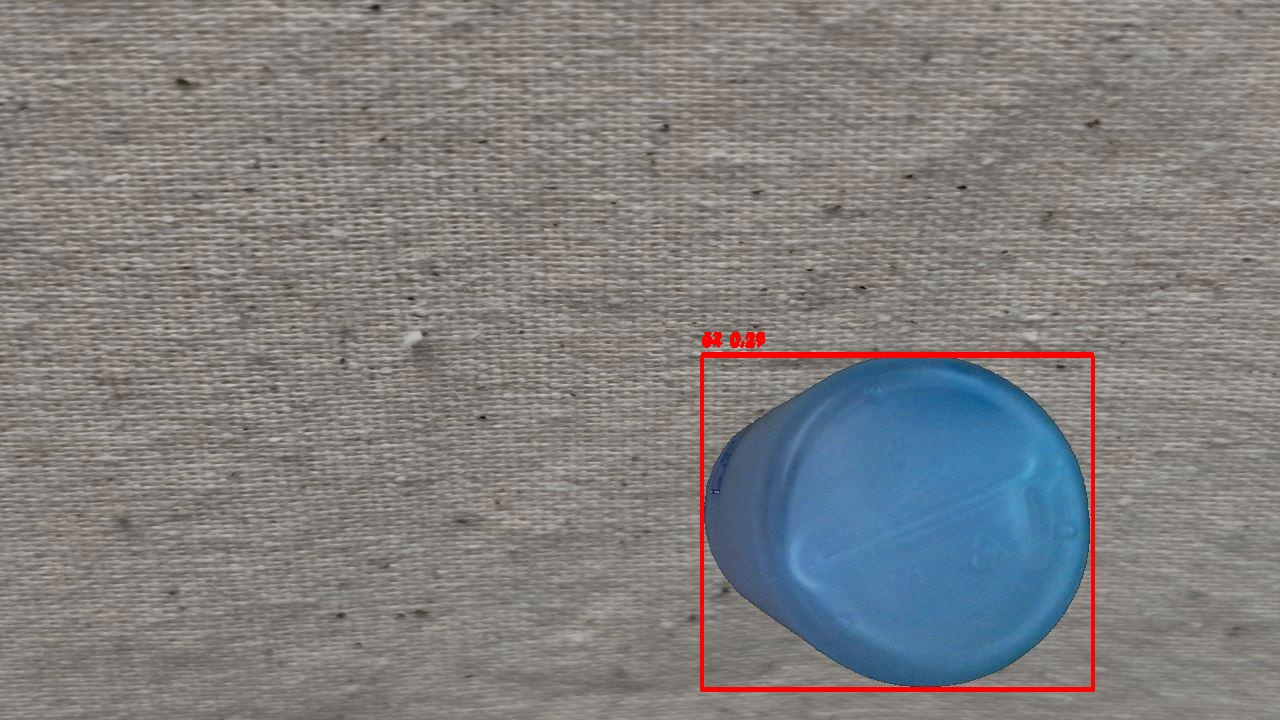cup: (701, 356, 1093, 690), (702, 353, 1092, 688)
